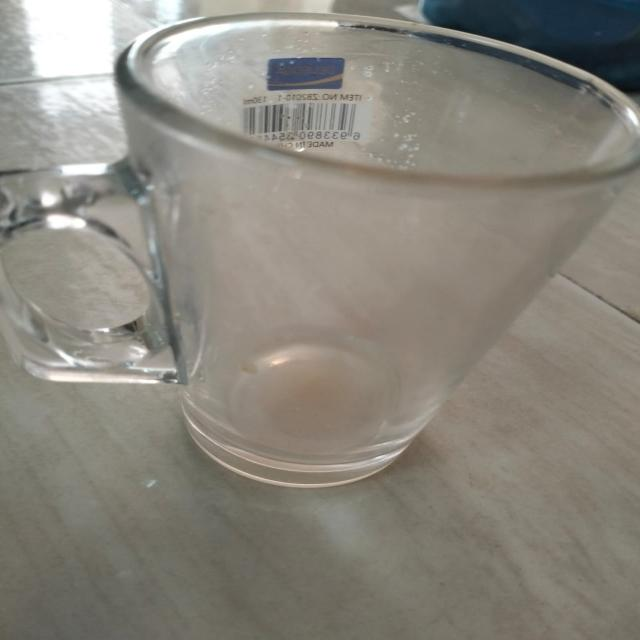glass-VX4N: (2, 12, 640, 492)
